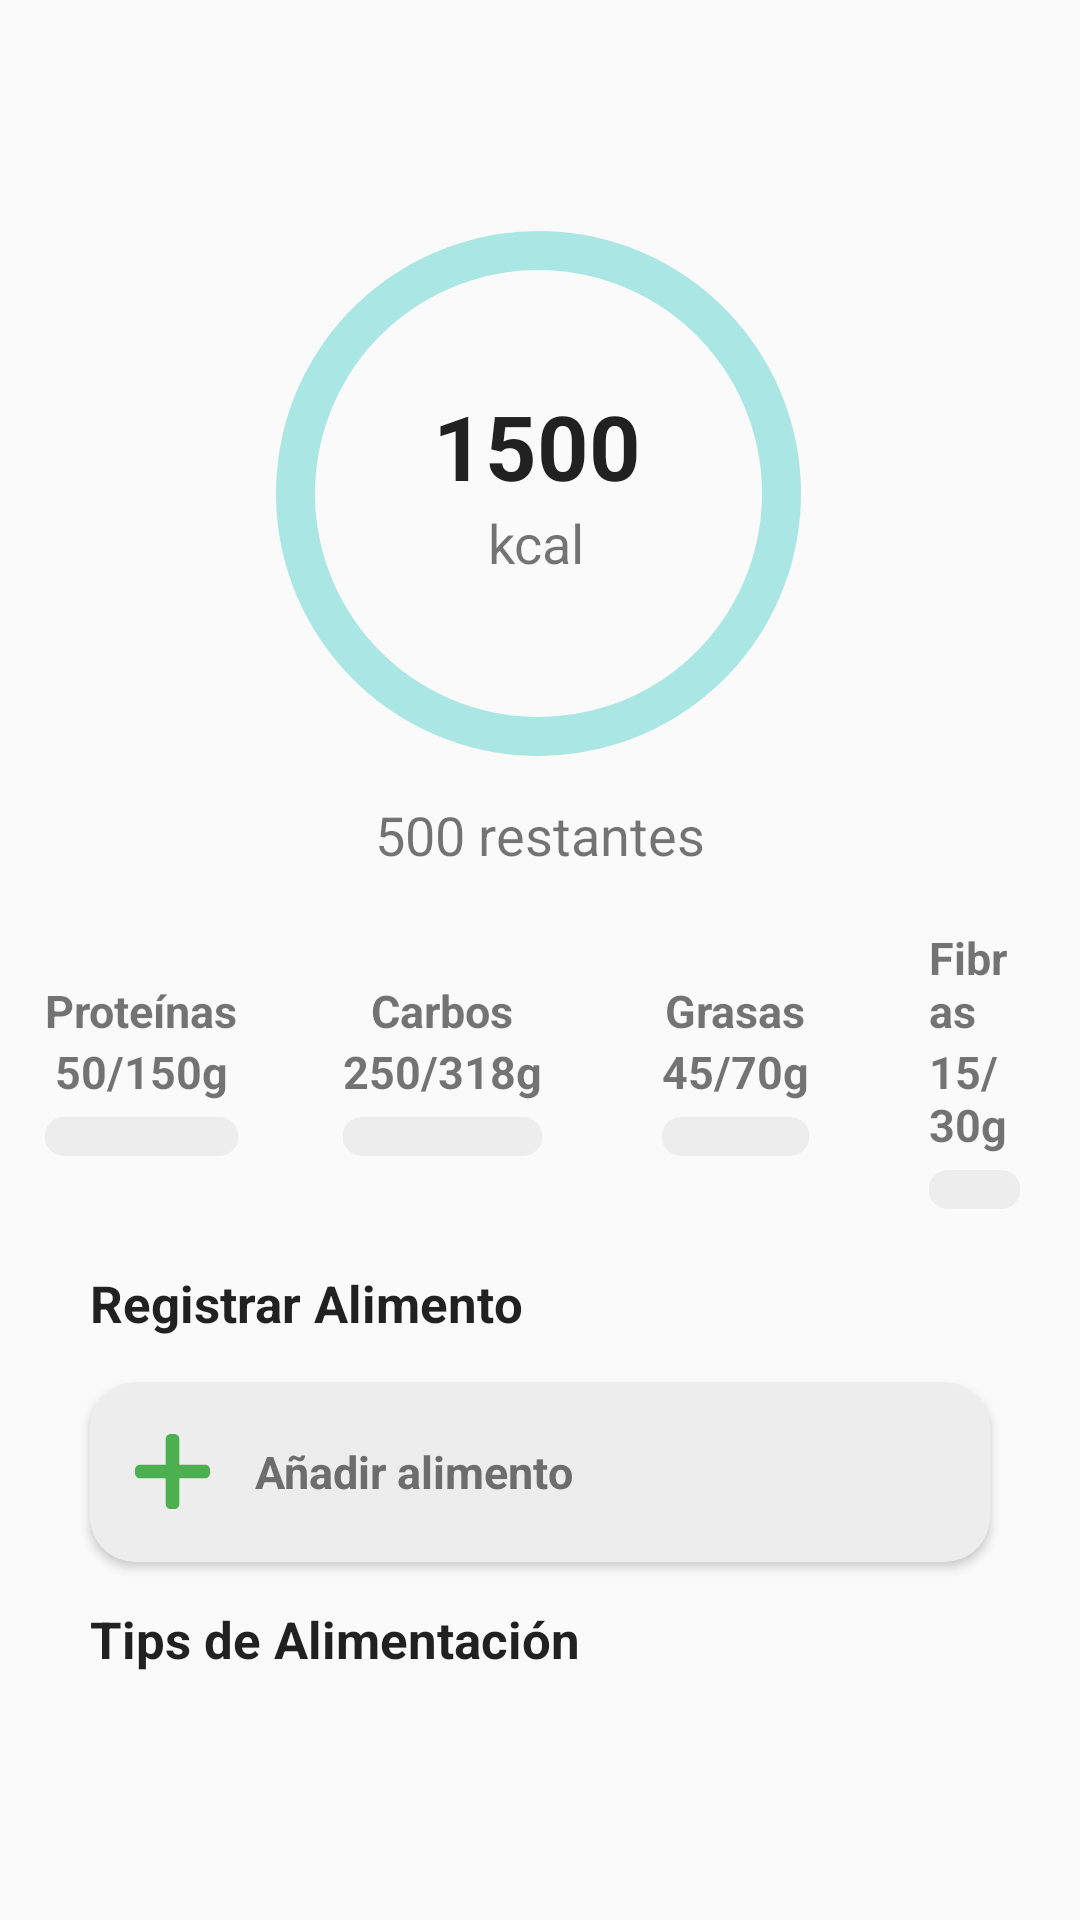

Named icons in this screenshot (1080x1920) and their bounding boxes, (x1, y1, x2, y2):
plus: (135, 1434, 210, 1509)
